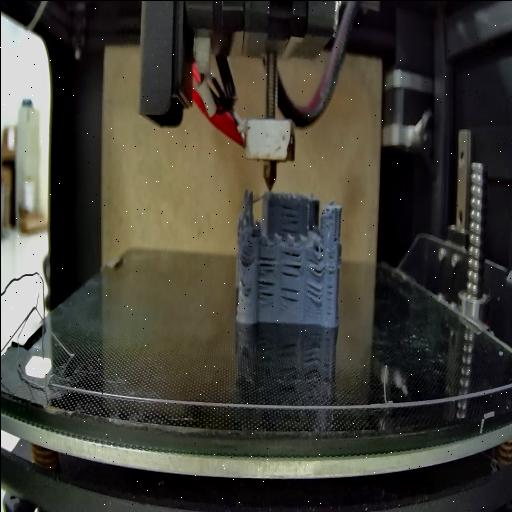cracks: (257, 254, 275, 302), (324, 252, 336, 316), (278, 202, 302, 232), (278, 249, 300, 277), (306, 250, 324, 280), (278, 283, 298, 307), (308, 282, 322, 306), (238, 248, 252, 262), (238, 276, 247, 290), (330, 228, 338, 242)
